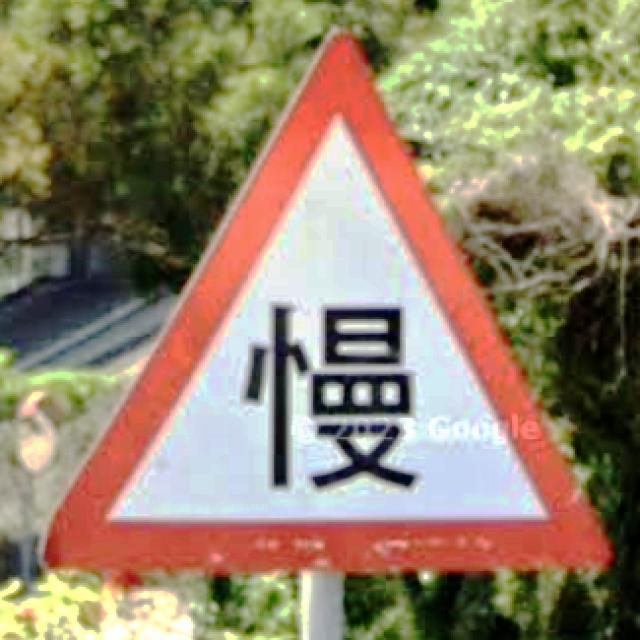slow: (41, 32, 610, 573)
